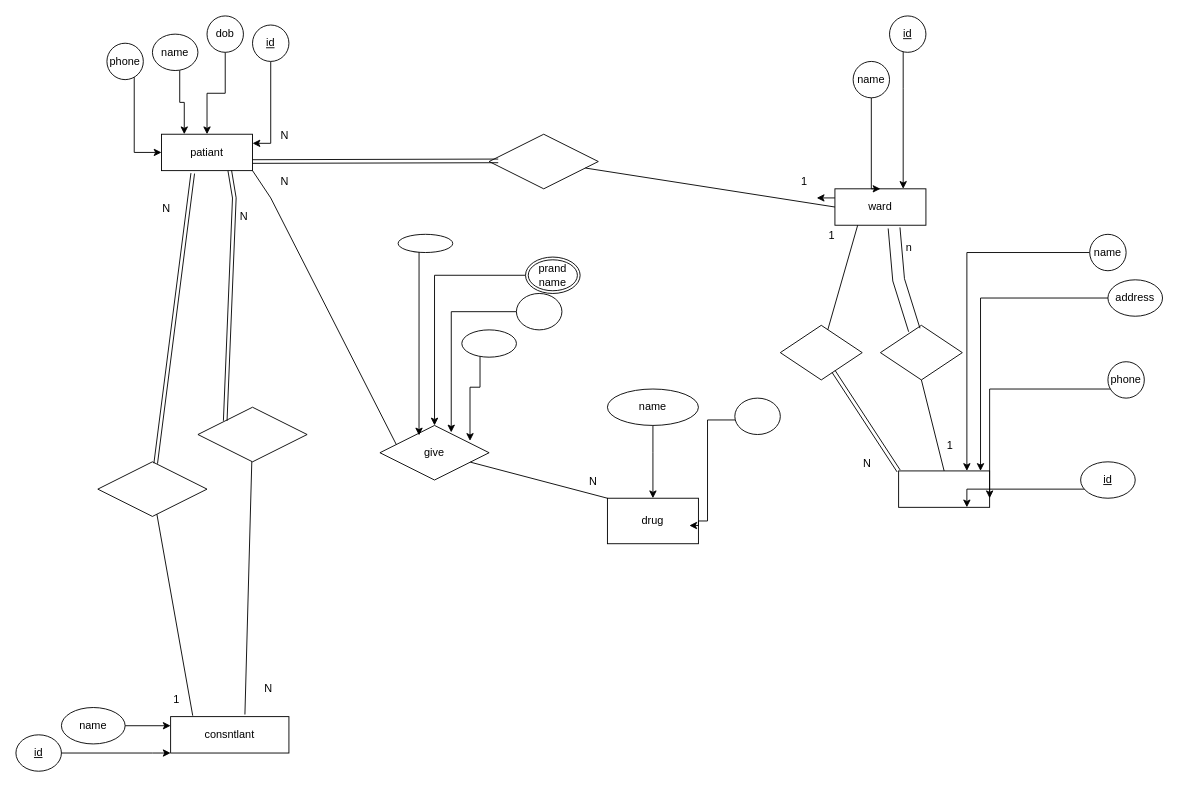
Some shapes in this 1178 by 787 pixel diagram are drawn without their labels. Each missing label, with the centre of its shape:
"assign" belongs at (x=152, y=488).
"code" belongs at (x=757, y=416).
"date" belongs at (x=488, y=343).
"examin" belongs at (x=252, y=434).
"in" belongs at (x=543, y=161).
"nurse" belongs at (x=944, y=488).
"Quantaty" belongs at (x=425, y=243).
"serve" belongs at (x=820, y=352).
"time" belongs at (x=539, y=311).
"visor" belongs at (x=921, y=352).
